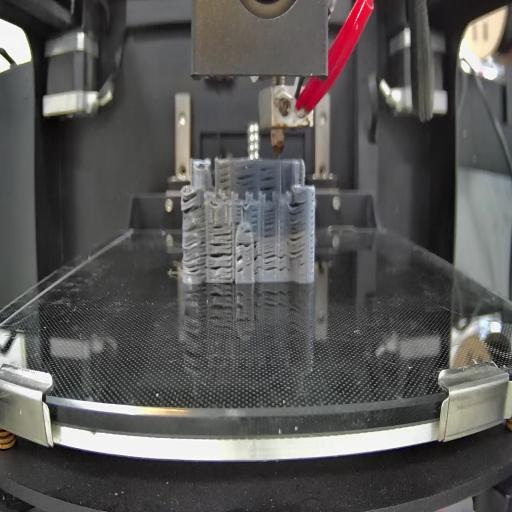cracks: (182, 226, 206, 276), (288, 200, 306, 260), (209, 243, 233, 279), (258, 166, 279, 192), (181, 191, 202, 212), (237, 170, 256, 189), (264, 208, 274, 240), (254, 240, 263, 274), (219, 167, 231, 191), (212, 223, 231, 238), (265, 249, 276, 272), (234, 203, 244, 225), (252, 204, 259, 227), (279, 252, 286, 273), (238, 254, 244, 276), (237, 241, 253, 249), (243, 225, 252, 236)
